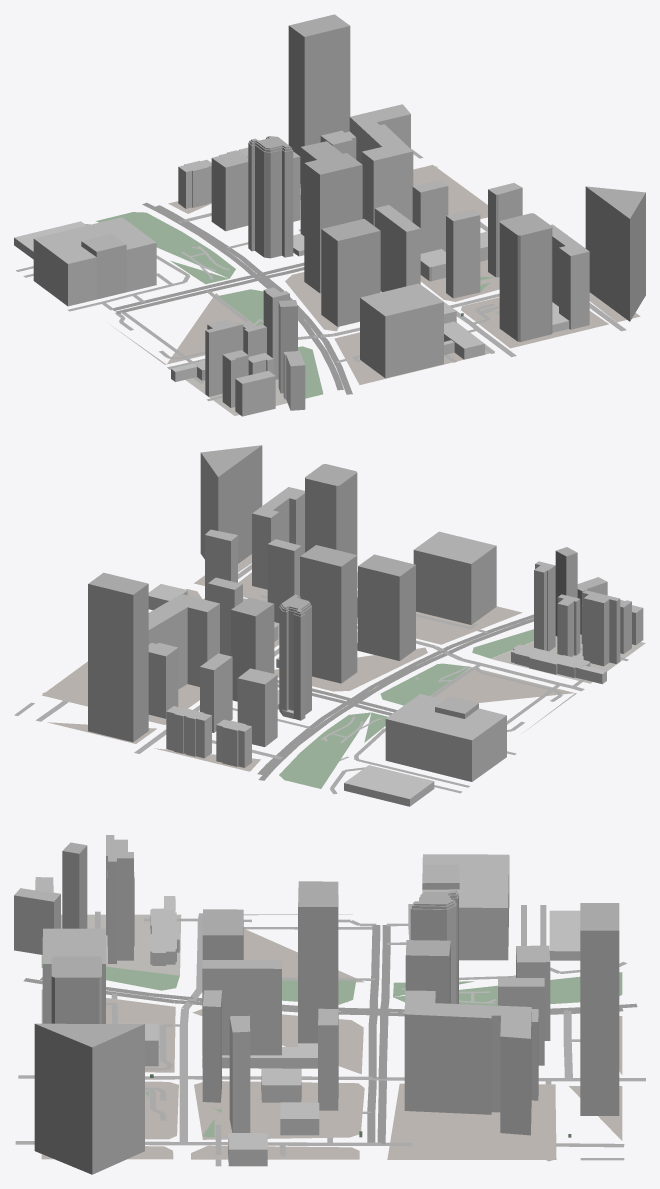
3 renders of one model, top to bottom at view 1: azimuth 30°, elevation 25°; view 2: azimuth 150°, elevation 25°; view 3: azimuth 270°, elevation 25°, orthographic. The views are drawn at different scales.
Size of the model in its own units: 552 by 176 by 544.
